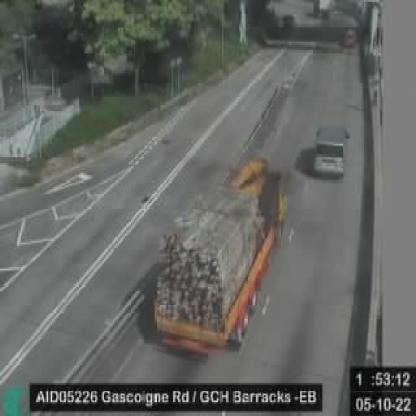Car: (312, 125, 348, 177)
Truck: (154, 158, 288, 350)
